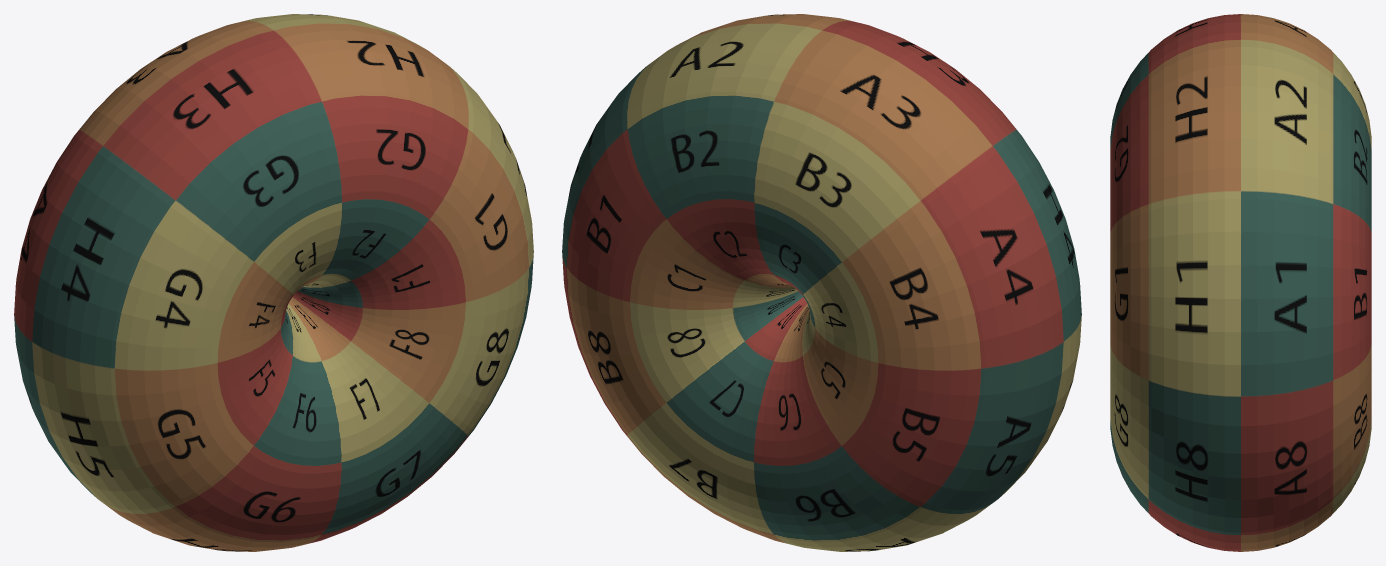
File: texture_torus_R0_r28.glb
The picture shows the model from 3 angles, left to right: view 1: azimuth 30°, elevation 25°; view 2: azimuth 150°, elevation 25°; view 3: azimuth 270°, elevation 25°; orthographic projection. The views are drawn at different scales.
Visible parts, largest first — view 1: world; view 2: world; view 3: world.
Part boxes in pixels (box(x1,y1,x2,y2)): world: box(14, 14, 533, 551); world: box(562, 14, 1081, 551); world: box(1110, 14, 1371, 551).
Size of the model in its own units: 19.47 by 19.43 by 9.45.
Materials: 1 (1 with a texture image).
